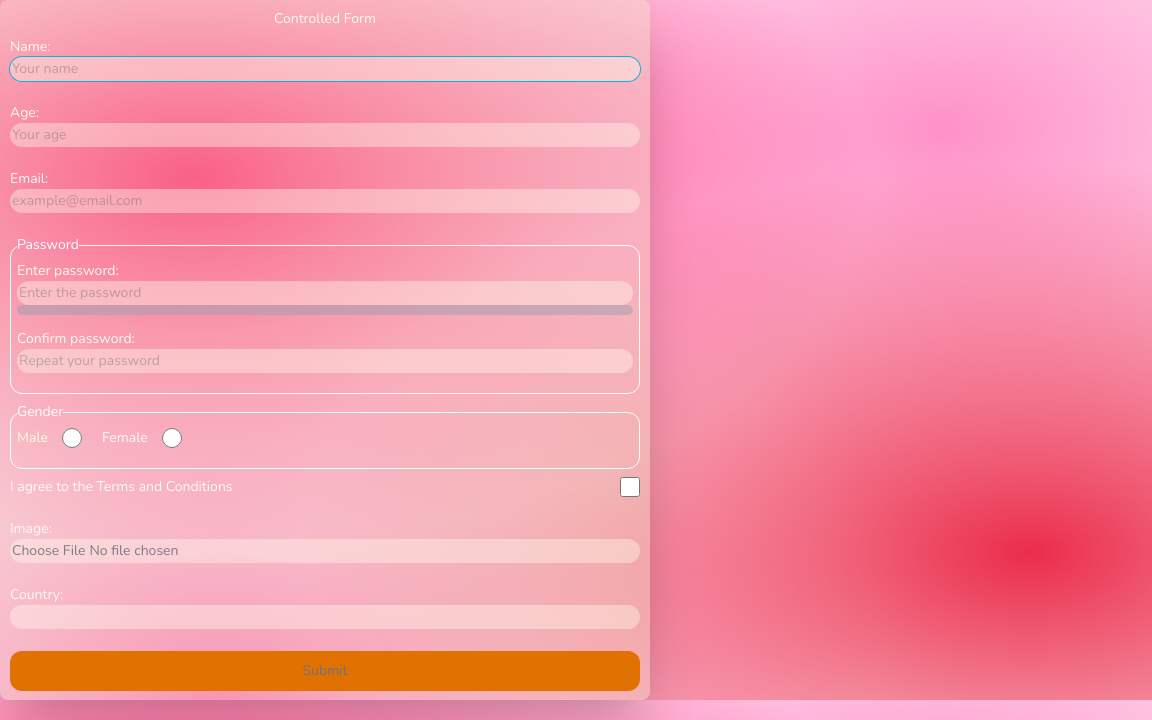
Scenario: Controlled form tests › should validate name field
Type "a" into the field labelled "Name:". click: (325, 69)
box: [10,57,640,81]
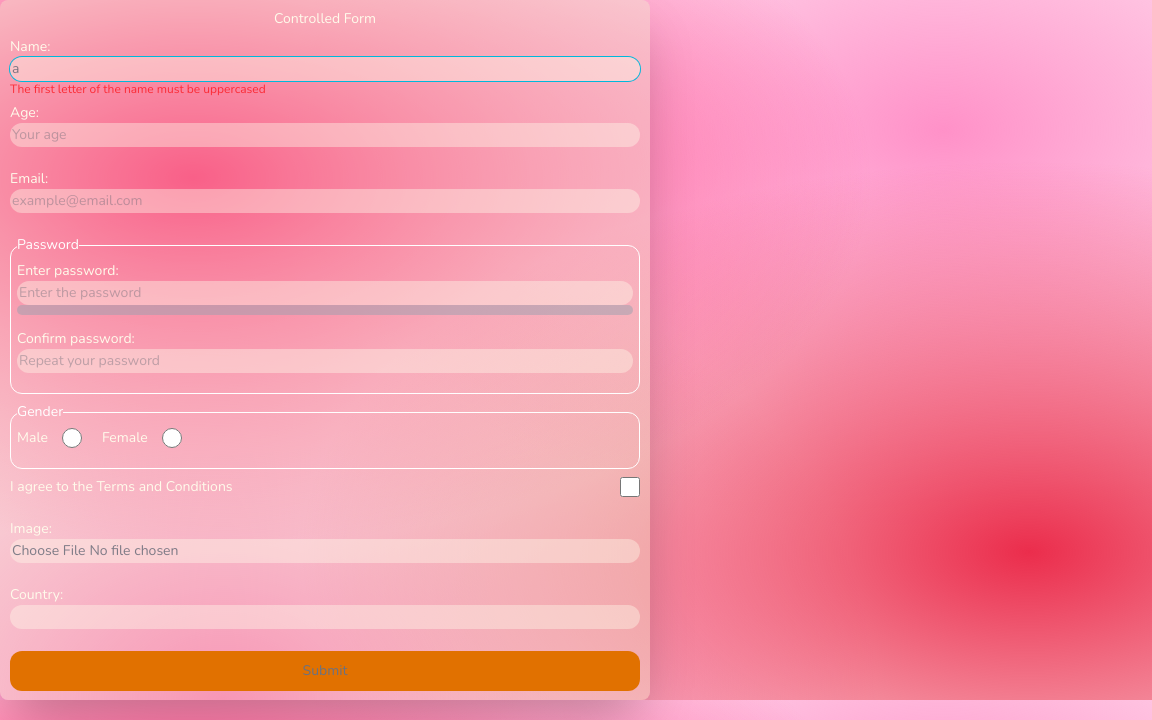
Expected: the text "The first letter of the name must be uppercased" is shown, [10,81,266,97]
